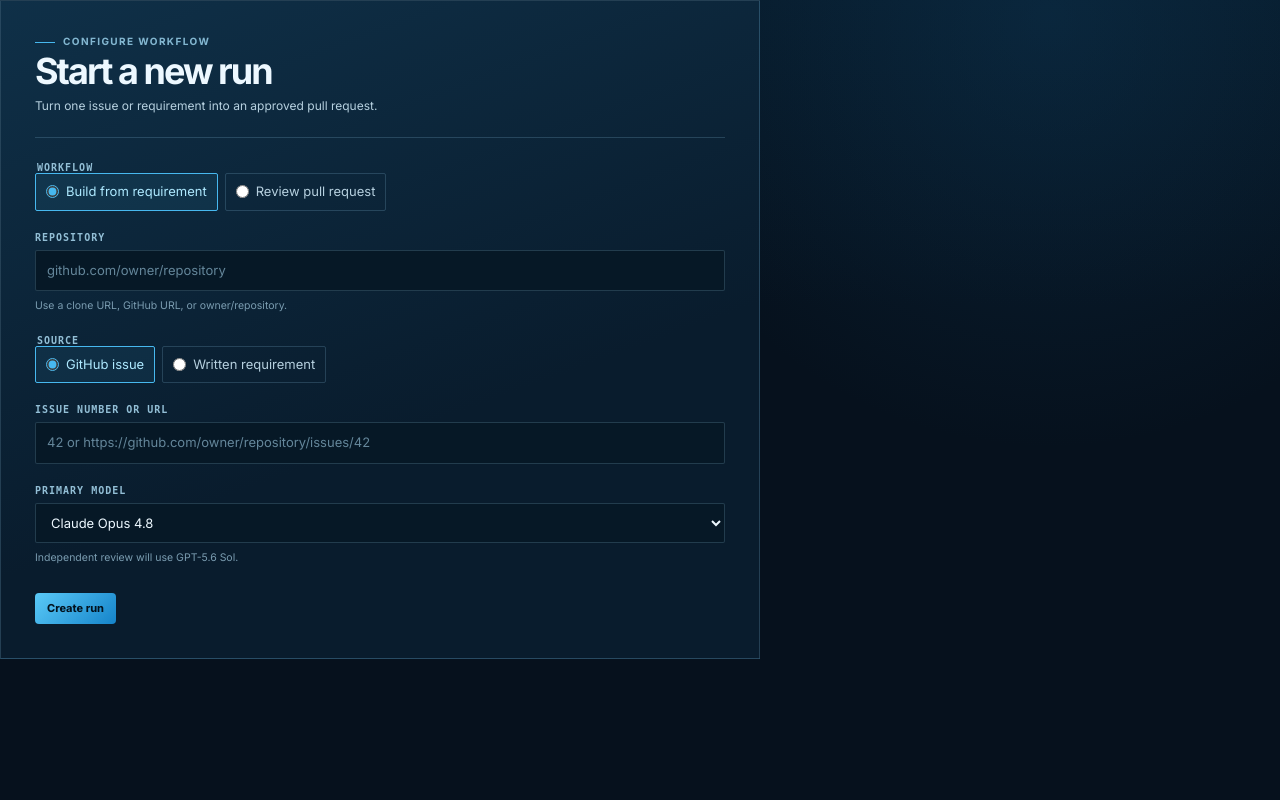
RunForm › switches between issue and written requirement inputs
The width and height of the screenshot is (1280, 800).
Check: the field labelled "Issue number or URL" is shown, box [35,422,725,464]
Check: the text "Independent review will use GPT-5.6 Sol." is shown, box [35,551,238,564]
Click the radio button labelled "Written requirement".
click(180, 364)  # box [173,358,186,371]
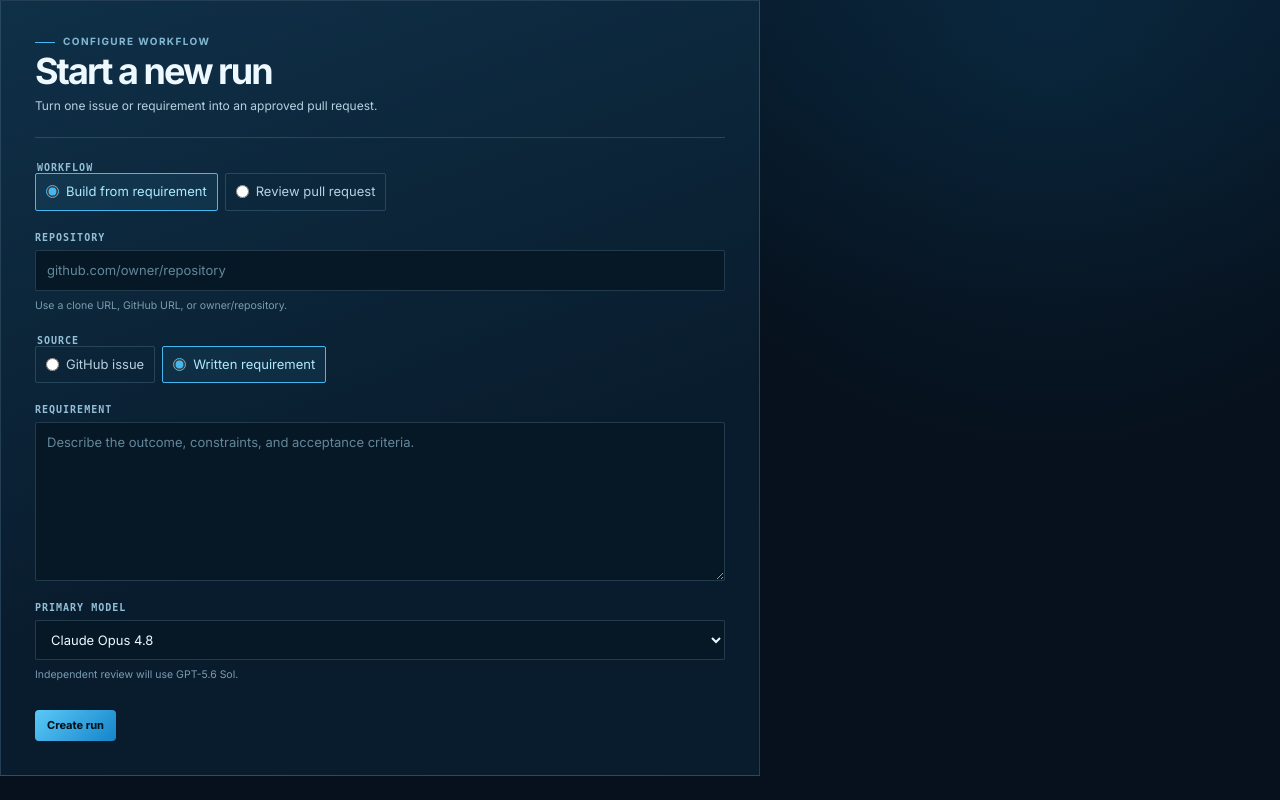
Check: the text box labelled "Requirement" is shown, box [35,422,725,581]
Click the radio button labelled "Review pull request".
click(242, 192)  # box [236,185,249,198]
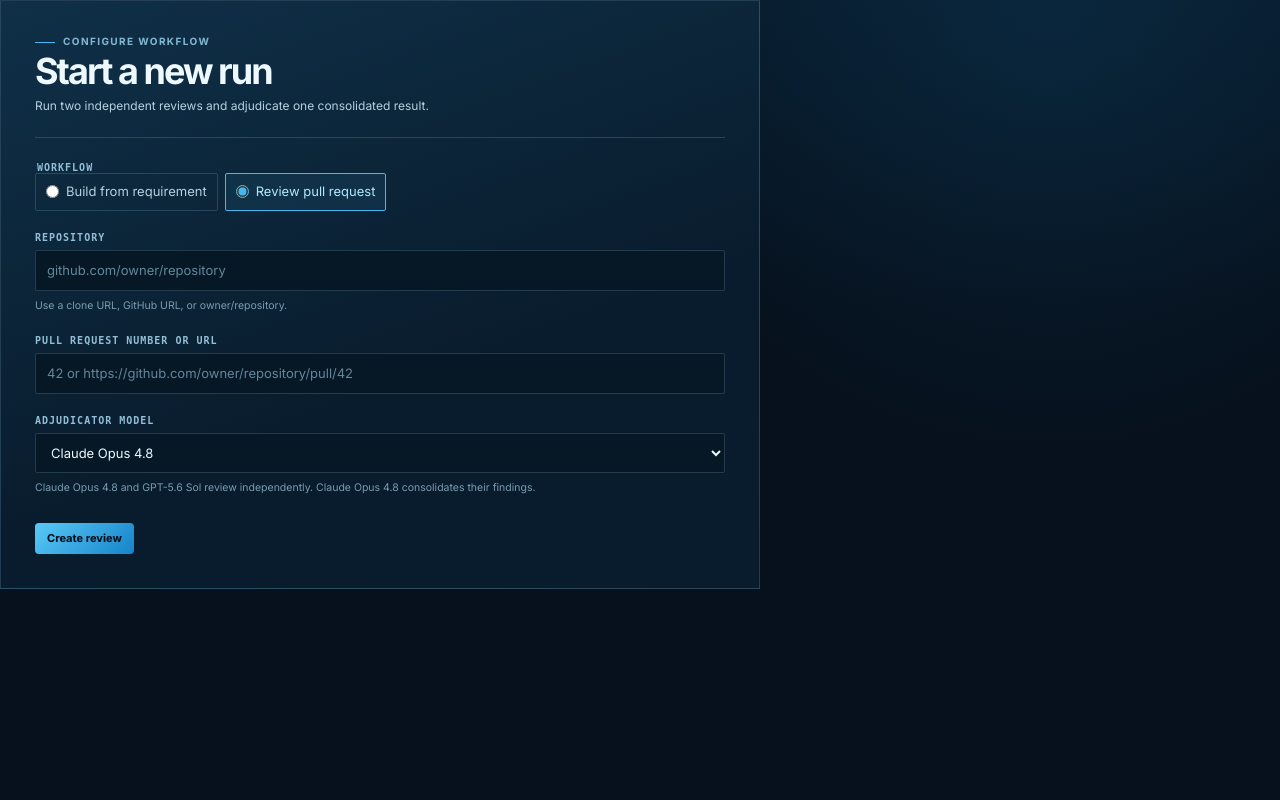
Check: the dropdown labelled "Adjudicator model" is shown, box [35,433,725,473]
Check: the field labelled "Pull request number or URL" is shown, box [35,353,725,394]
Check: the text "Claude Opus 4.8 and GPT-5.6 Sol review independently. Claude Opus 4.8 consolidates their findings." is shown, box [35,481,536,494]
